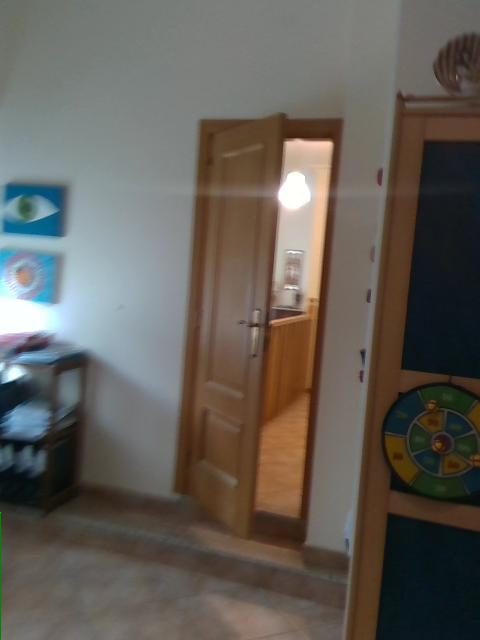semi_door: (173, 110, 347, 546)
